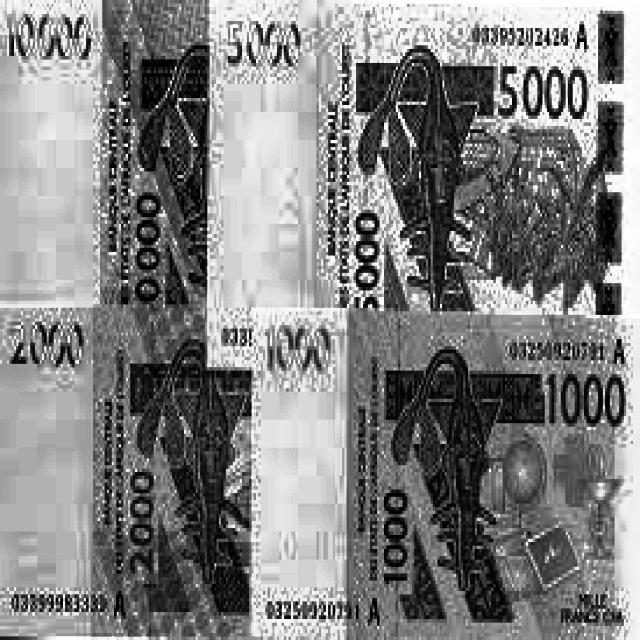junni: (207, 4, 640, 367)
niaar junni: (0, 0, 204, 303)
niaar teemeer: (254, 313, 640, 638)
nient teemeer: (0, 306, 250, 636)
